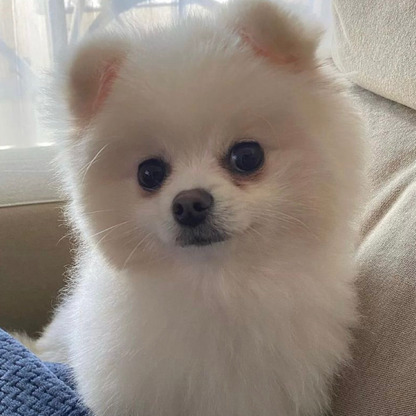Pomeranian: (65, 18, 372, 396)
